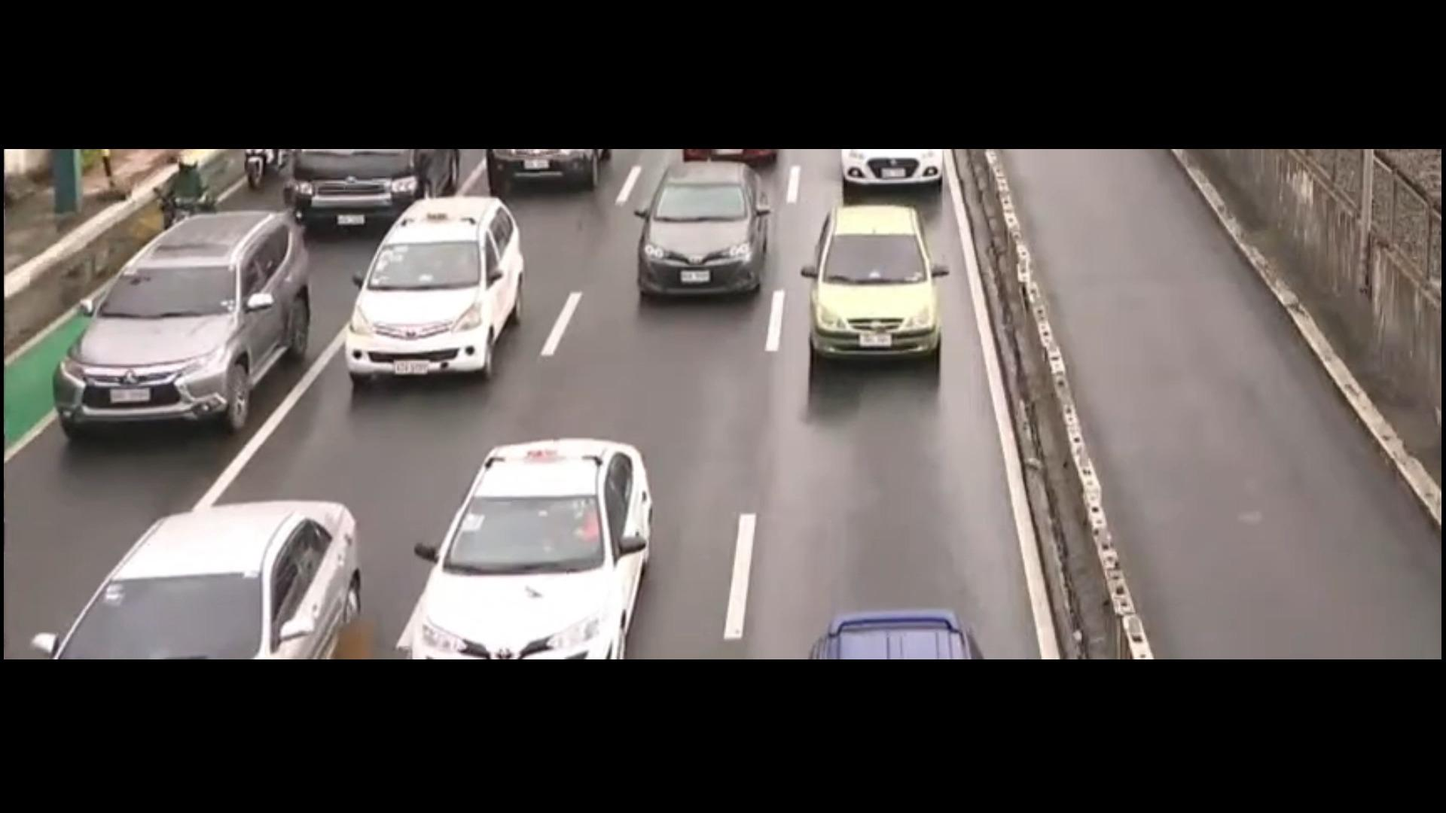Motorcycle: (153, 149, 224, 243)
SUV: (41, 216, 307, 418), (341, 201, 523, 378)
Sedan: (403, 433, 646, 657), (30, 499, 360, 659), (806, 205, 940, 369), (636, 156, 770, 299)
Van: (290, 143, 463, 233)
